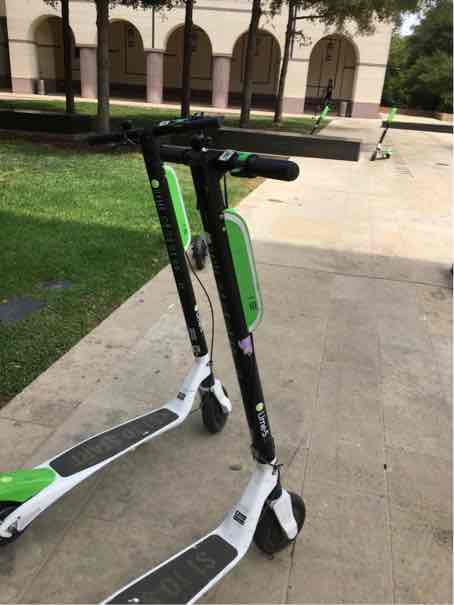scooter: (2, 113, 235, 548), (98, 144, 314, 605)
